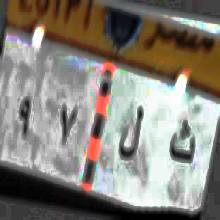7: (58, 102, 79, 150)
9: (17, 88, 34, 146)
laam: (120, 104, 142, 163)
thaa: (168, 107, 196, 174)
